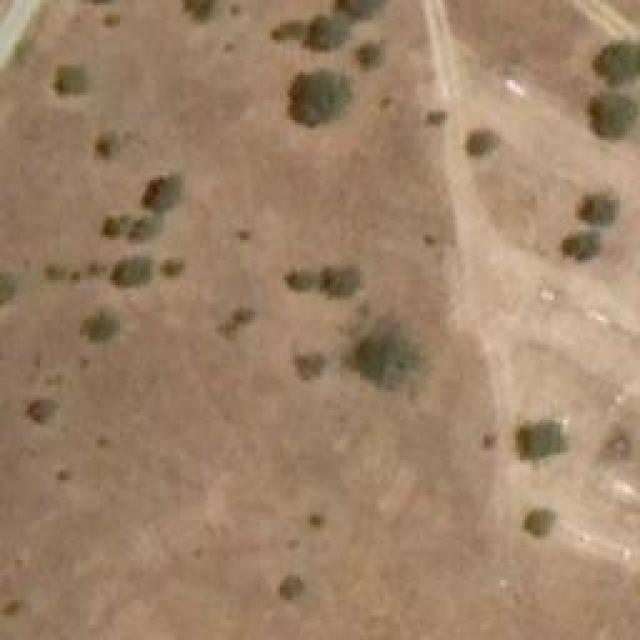Tree: (353, 320, 418, 395), (290, 70, 345, 128), (593, 90, 636, 140), (592, 40, 640, 83), (512, 420, 560, 463), (140, 175, 185, 220), (578, 185, 621, 225), (300, 15, 348, 50), (322, 260, 360, 298), (25, 395, 63, 430), (50, 65, 85, 98), (112, 260, 150, 290), (80, 312, 120, 340), (558, 232, 598, 260), (128, 215, 161, 248), (293, 348, 326, 381), (463, 128, 498, 158), (332, 0, 379, 22), (522, 503, 550, 538), (353, 40, 383, 70), (277, 573, 305, 603), (95, 130, 120, 158), (160, 258, 188, 281), (185, 0, 215, 20), (270, 20, 293, 43), (0, 275, 18, 303), (288, 270, 313, 290), (100, 10, 123, 30), (98, 218, 121, 238), (230, 307, 255, 325), (425, 110, 448, 128), (307, 512, 325, 530)
